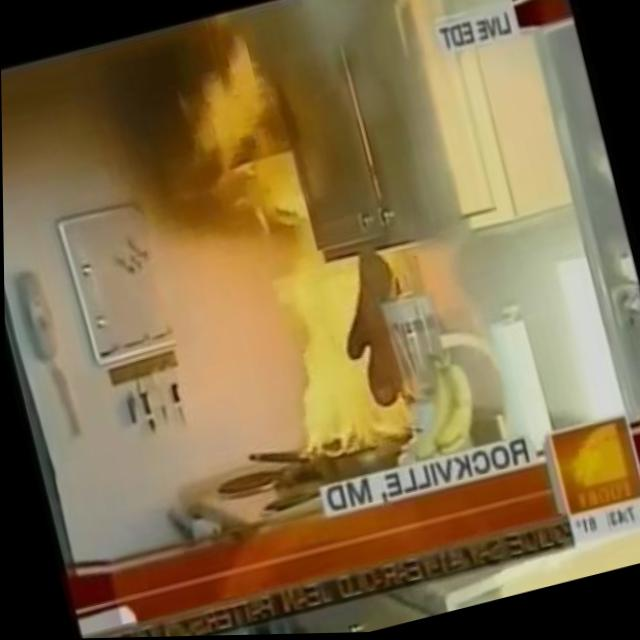fire: (251, 212, 423, 477)
